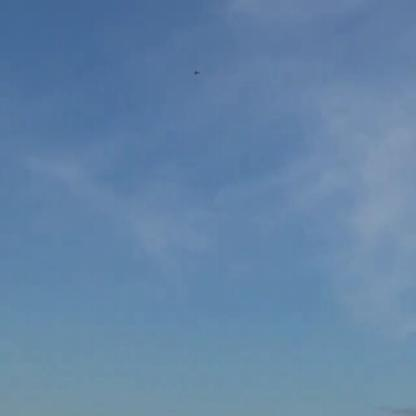CIV_Plane: (193, 66, 202, 79)
